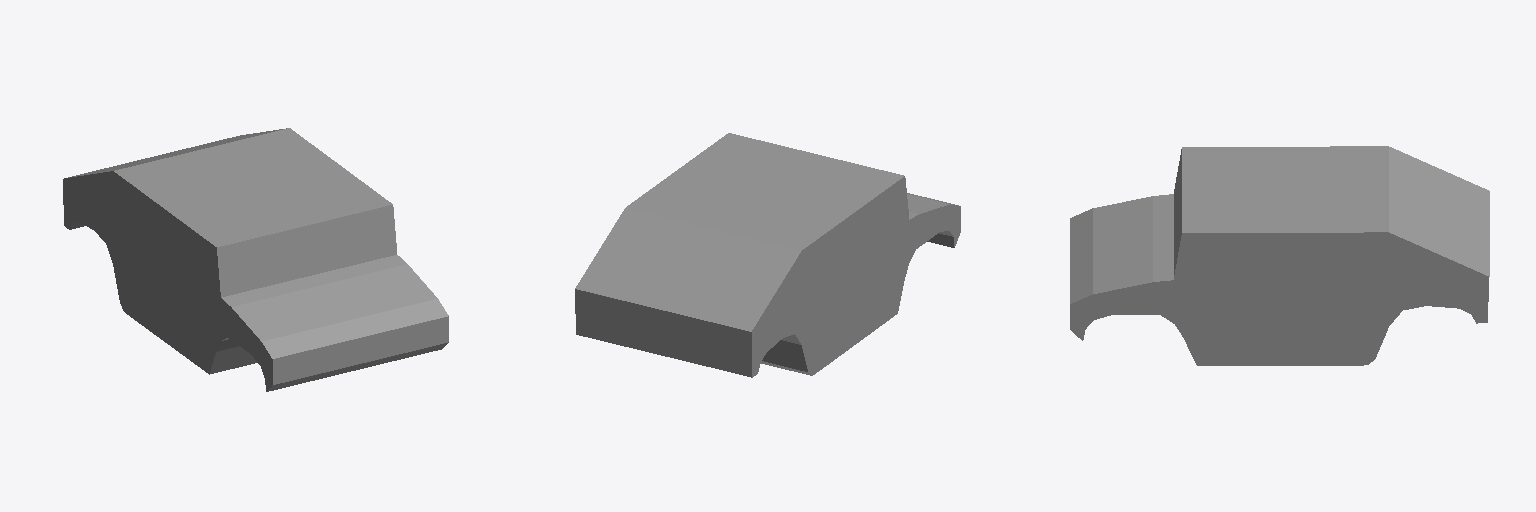
The model's file is hummer_ho.obj.
The picture shows the model from 3 angles: view 1: azimuth 30°, elevation 25°; view 2: azimuth 150°, elevation 25°; view 3: azimuth 270°, elevation 25°; orthographic projection.
Visible parts, largest first — view 1: hummer_ho:mesh06; view 2: hummer_ho:mesh06; view 3: hummer_ho:mesh06.
Boxes of the visible parts, box(x1,y1,x2,y2) form: hummer_ho:mesh06: box(63, 128, 448, 391); hummer_ho:mesh06: box(575, 133, 960, 377); hummer_ho:mesh06: box(1070, 146, 1489, 365).
Size of the model in its own units: 5.51 by 3.97 by 11.32.